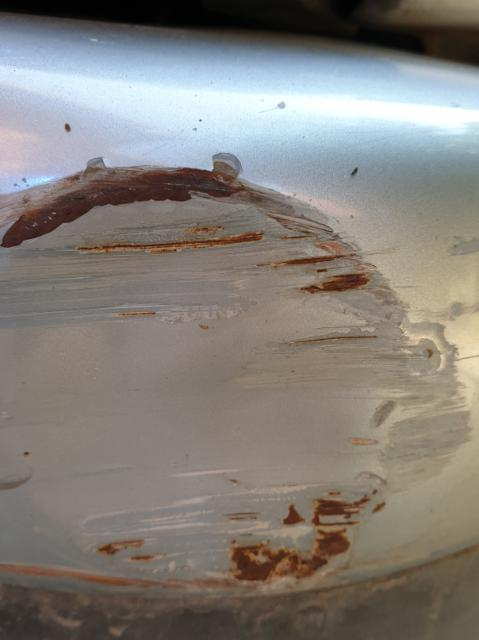Door: (3, 100, 479, 636)
